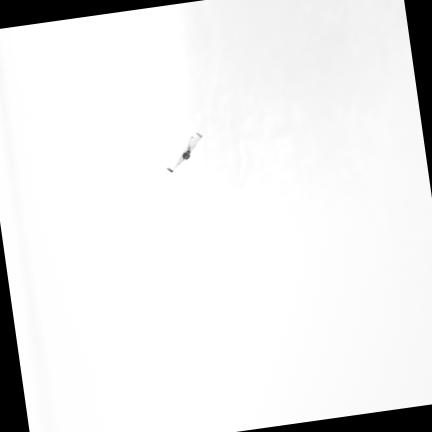Shahed: (166, 132, 201, 171)
